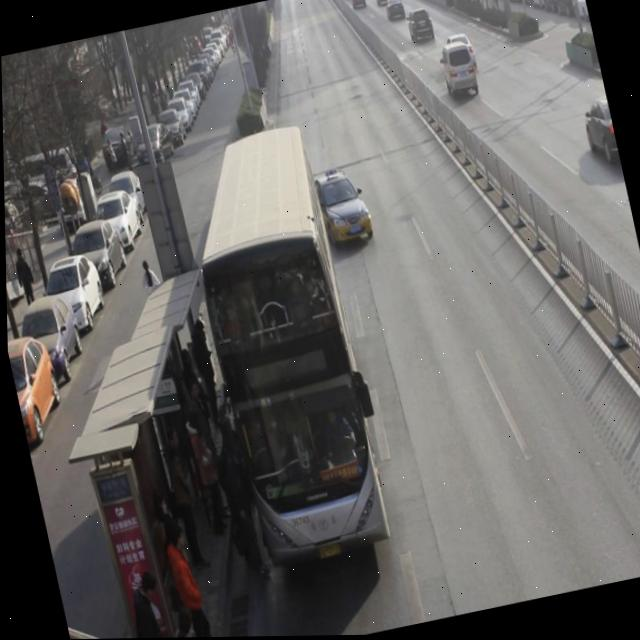car: (307, 165, 374, 249), (446, 32, 479, 78), (405, 7, 437, 49), (383, 0, 408, 26), (349, 0, 369, 14), (373, 0, 392, 9)
truck: (437, 41, 482, 104)
van: (175, 127, 392, 564)
